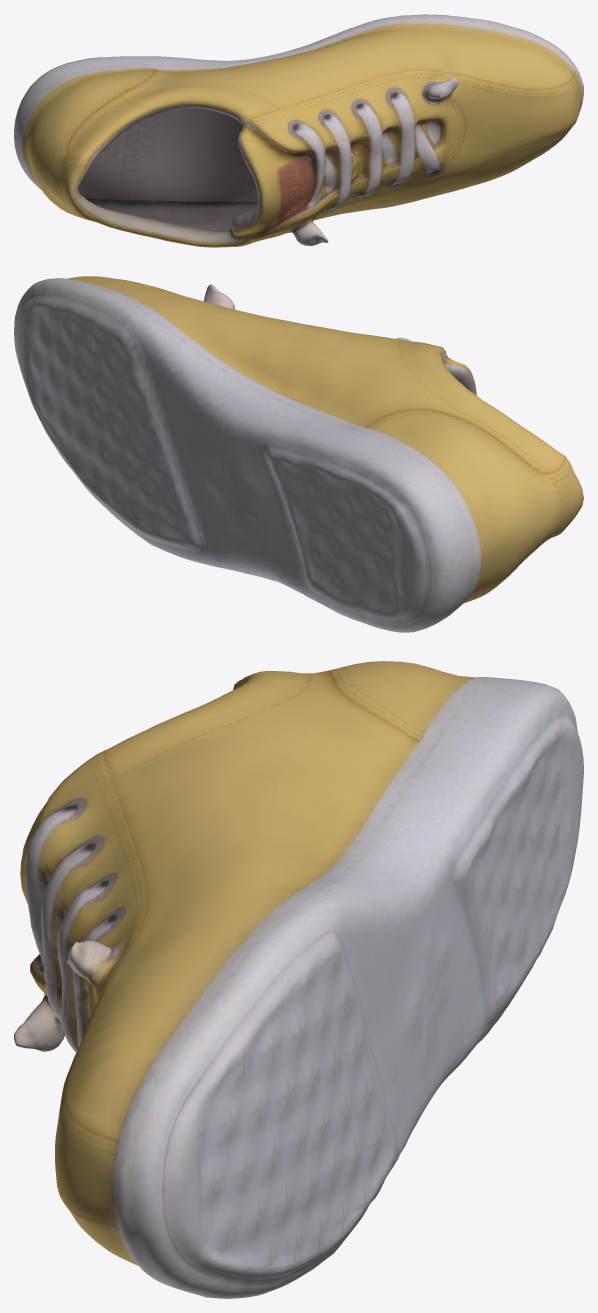
3 views of the same model, one above another, from view 1: azimuth 30°, elevation 25°; view 2: azimuth 150°, elevation 25°; view 3: azimuth 270°, elevation 25° (orthographic). The views are drawn at different scales.
Visible parts, largest first — view 1: mmGroup0; view 2: mmGroup0; view 3: mmGroup0.
Boxes of the visible parts, x1=… form: mmGroup0: x1=14, y1=14, x2=583, y2=247; mmGroup0: x1=14, y1=276, x2=583, y2=632; mmGroup0: x1=14, y1=661, x2=583, y2=1298.
Bounding box in the file's own units: 359 × 130 × 181.
